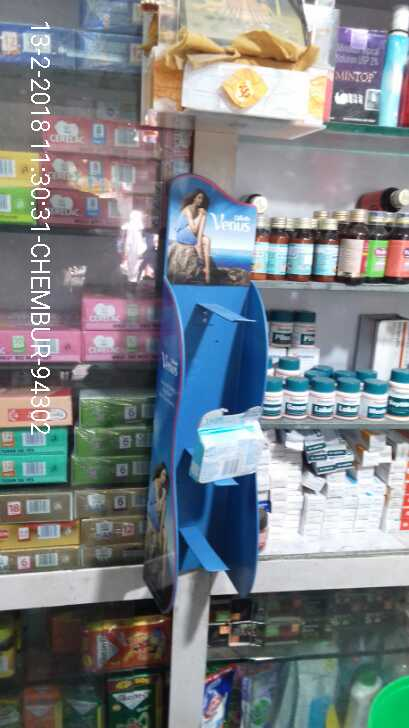reject: (212, 297, 280, 377)
